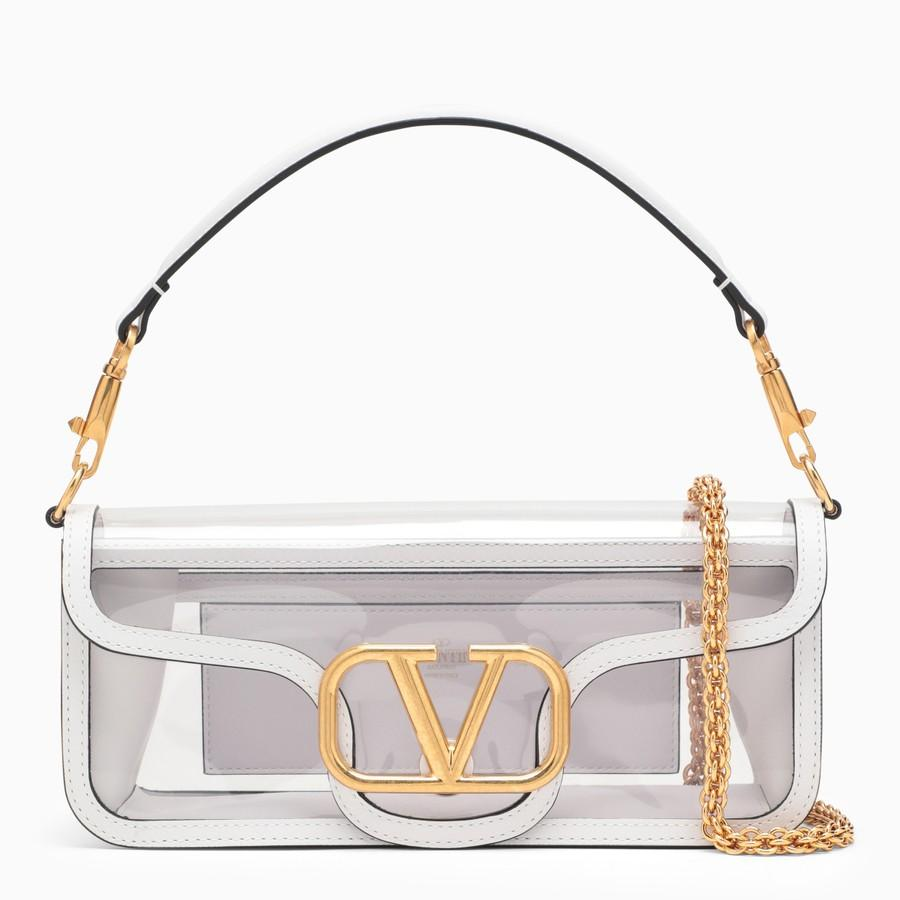VALENTINO: (319, 643, 570, 793)
